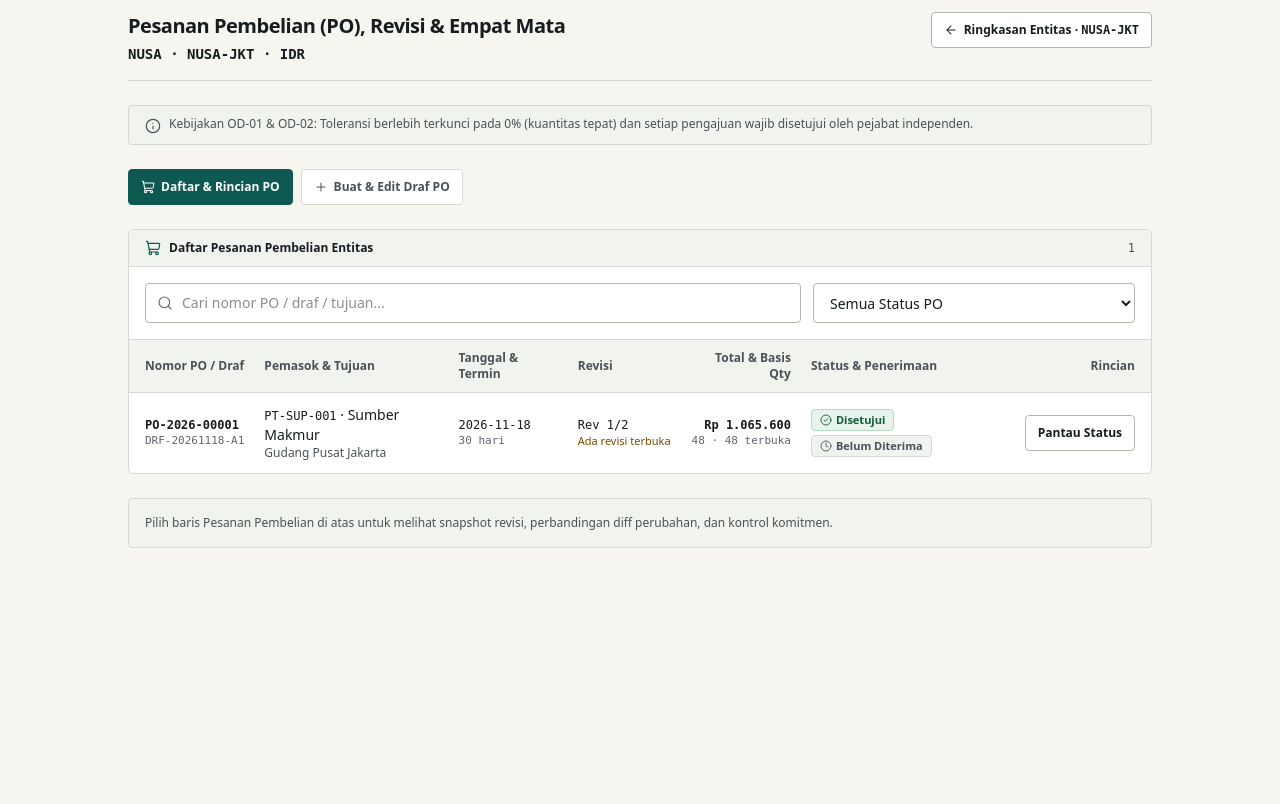
Scenario: S05 Procurement & PO UI › computes exact BigInt UoM base & PPN 11/12 totals and renders revision diff with self-approval SoD lock
This screenshot has width=1280, height=804.
Expected: the text "PO-2026-00001" is shown, [145,417,244,433]
Click the button "Pantau Status" at (1080, 433), box [1025,415,1135,451]
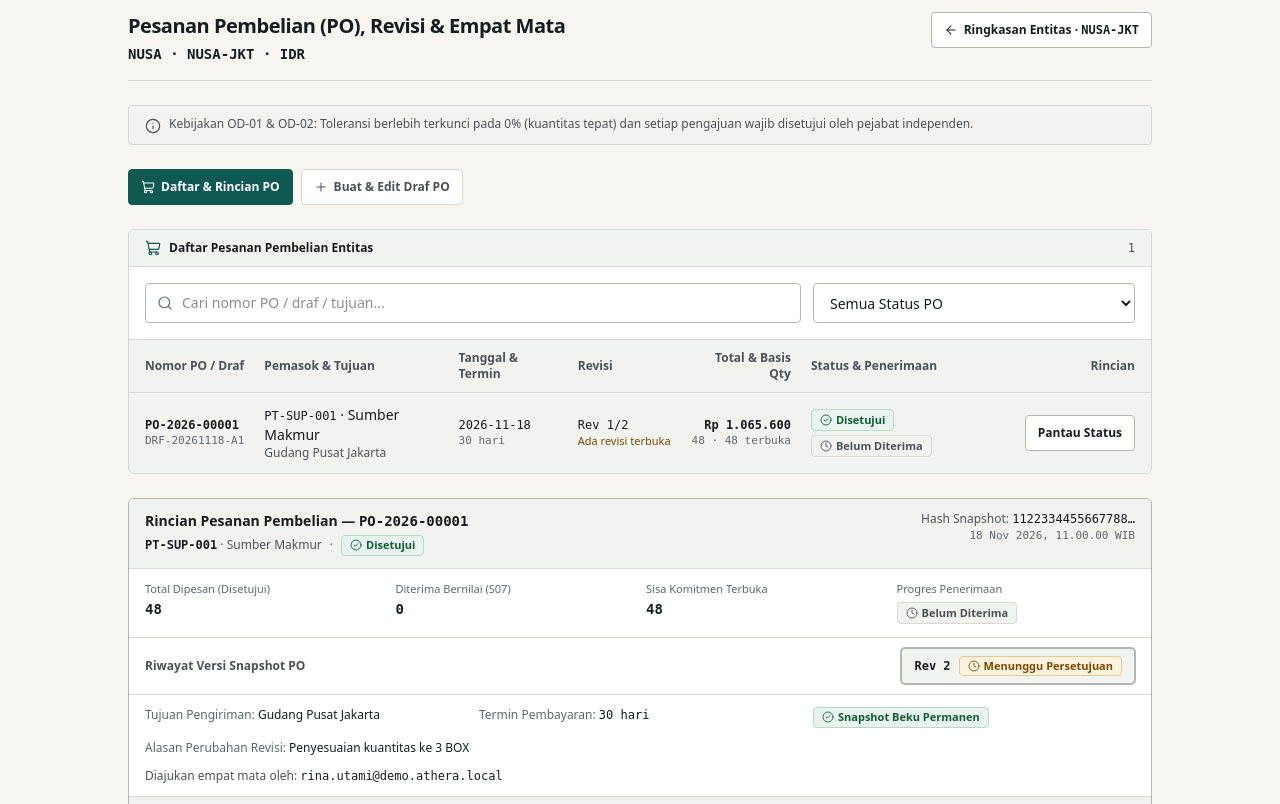
# Switch to PO editor & check exact 11/12 DPP BigInt calculation
Click the tab "Buat & Edit Draf PO" at (382, 187), box [301,169,463,205]
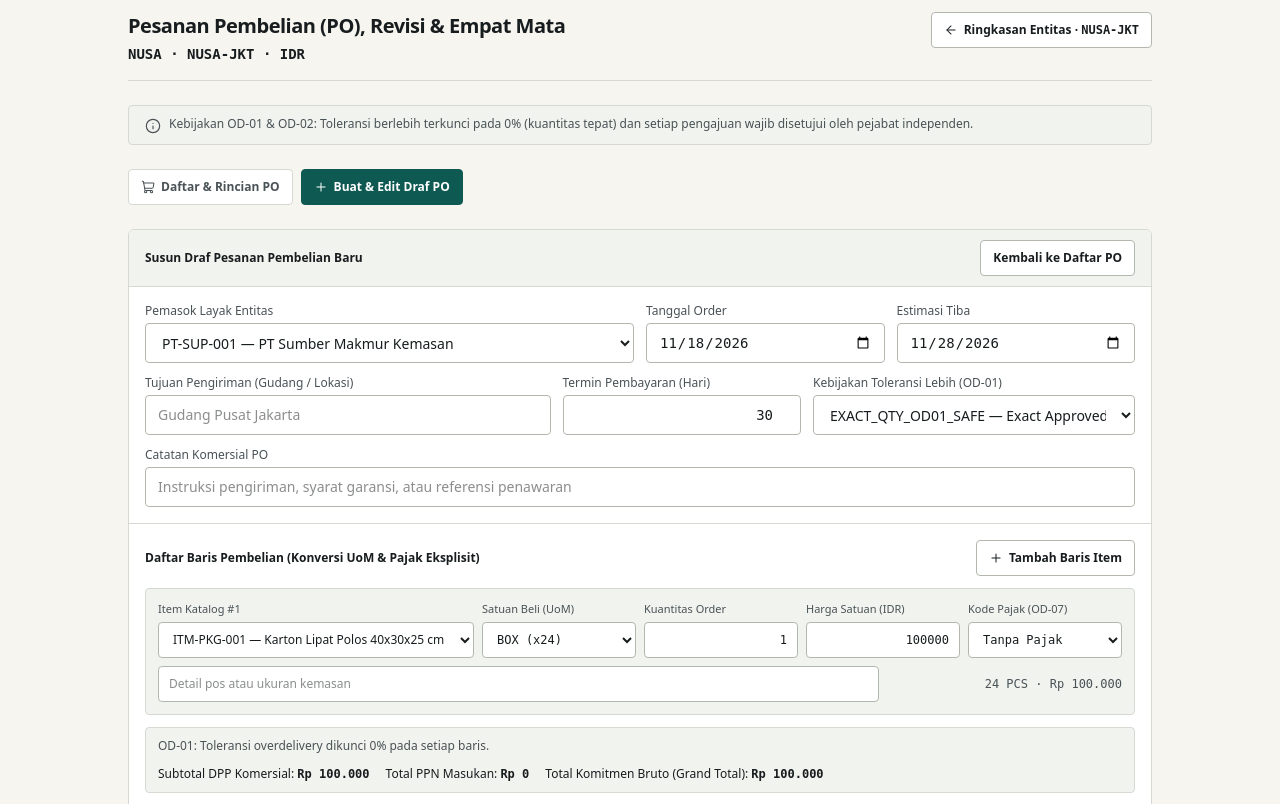
Replace the text in the field labelled "Kuantitas Order" with "3" at (721, 640), box [644,622,798,658]
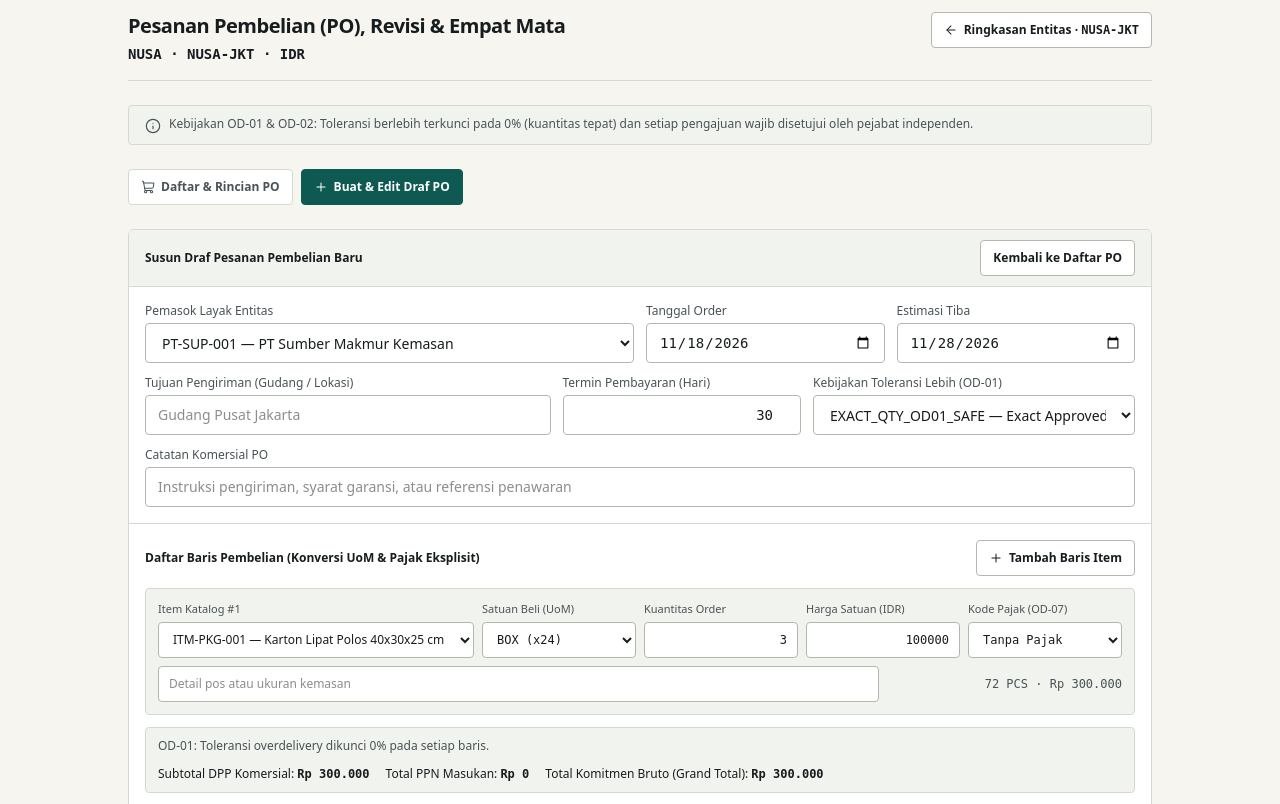
Replace the text in the field labelled "Harga Satuan (IDR)" with "480000" at (883, 640), box [806,622,960,658]
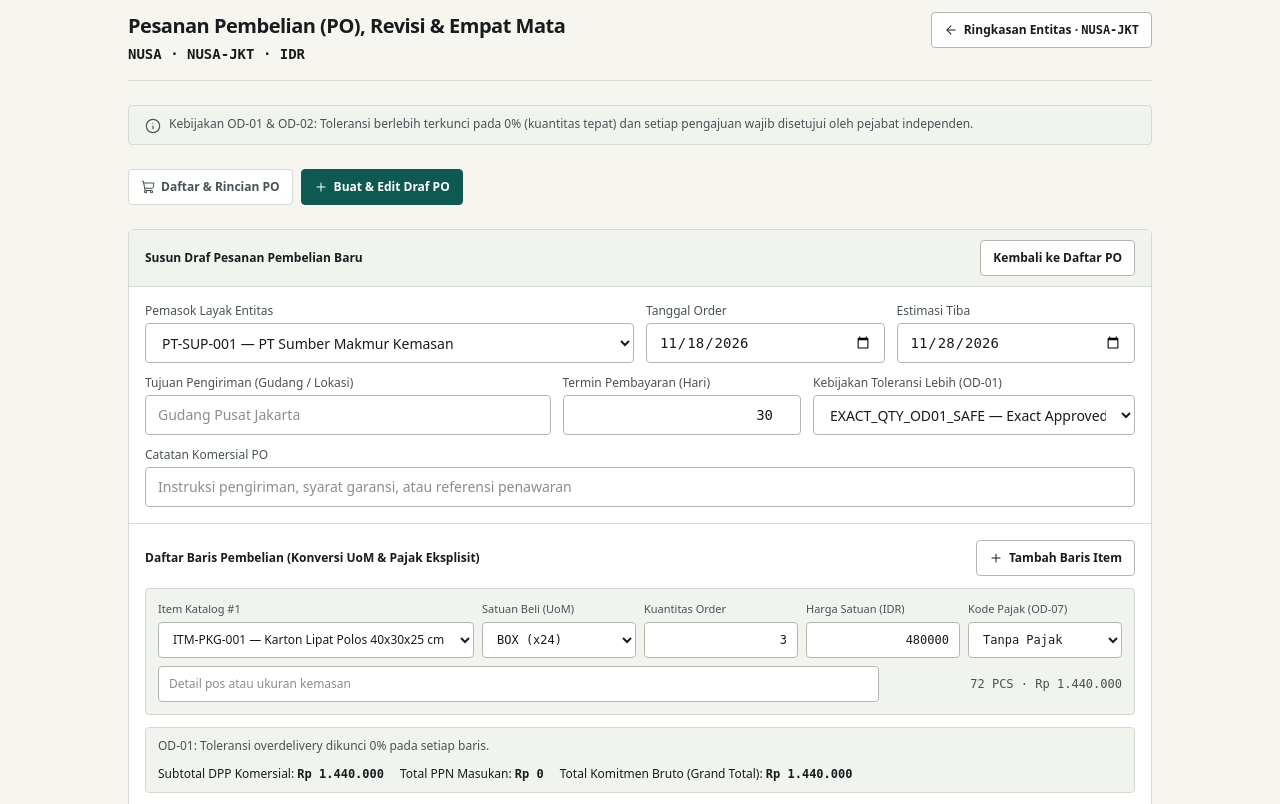
Select "PPN-12-DPP1112" in the dropdown labelled "Kode Pajak (OD-07)" at (1045, 640), box [968,622,1122,658]
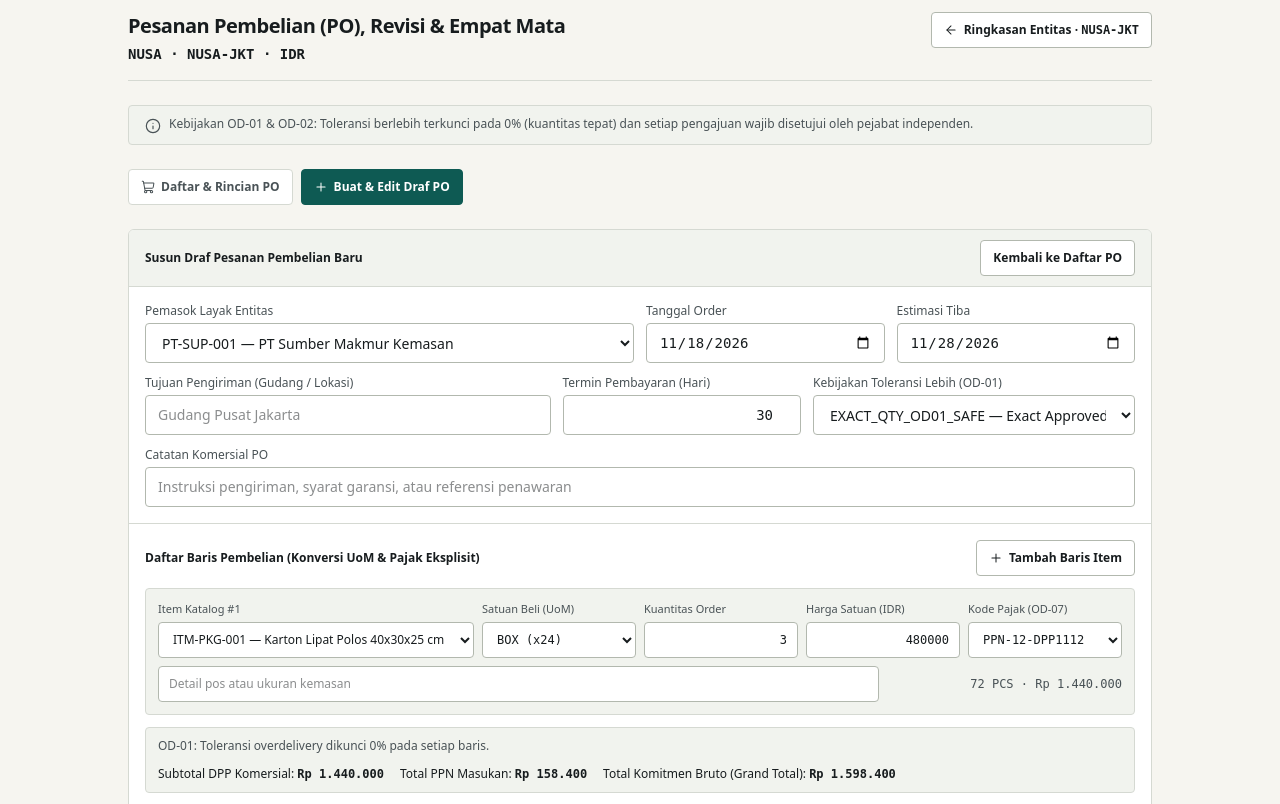
Now the element with test id "po-editor-totals" shows "Rp 1.440.000", box [158,766,896,782]
Now the element with test id "po-editor-totals" shows "Rp 158.400", box [158,766,896,782]
Now the element with test id "po-editor-totals" shows "Rp 1.598.400", box [158,766,896,782]
